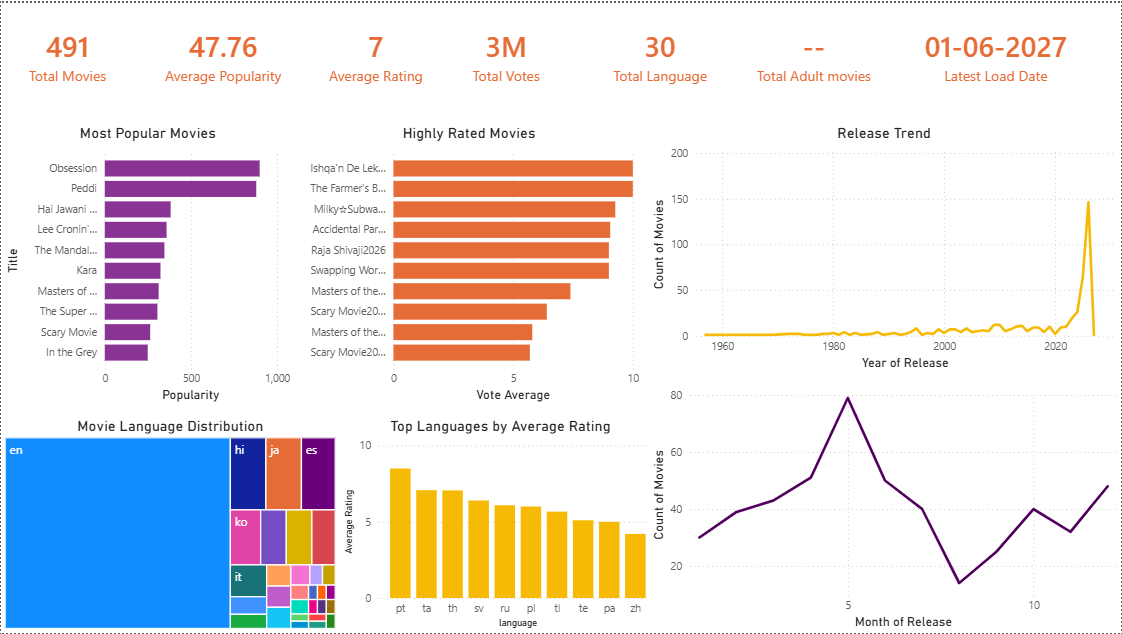

The page's visual inventory and layout, read from the dashboard file:
{"tool":"powerbi","page":{"name":"Page 1","canvas":[1280,720],"ordinal":0},"visuals":[{"type":"cardVisual","fields":{"Data":["movie_fact.Total Movies"]},"box":[0,0,152.9,121.4],"z":0},{"type":"barChart","title":"Most Popular Movies","fields":{"Category":["movie_fact.title"],"Y":["Sum(movie_fact.popularity)"]},"box":[0,138.6,335.7,322.9],"z":4000},{"type":"barChart","title":"Highly Rated Movies","fields":{"Y":["Sum(movie_fact.vote_average)"],"Category":["movie_fact.Movie name with year"]},"box":[335.7,138.6,398.6,322.9],"z":5000},{"type":"treemap","title":"Movie Language Distribution","fields":{"Group":["movie_fact.language"],"Values":["CountNonNull(movie_fact.movie_id)"]},"box":[0,472.9,387.1,247.1],"z":6000},{"type":"lineChart","title":"Release Trend","fields":{"Category":["movie_fact.Release Year"],"Y":["CountNonNull(movie_fact.movie_id)"]},"box":[738.6,138.6,541.4,285.7],"z":7000},{"type":"cardVisual","fields":{"Data":["movie_fact.Average Popularity"]},"box":[152.9,0,202.9,121.4],"z":8001},{"type":"cardVisual","fields":{"Data":["movie_fact.Average Rating"]},"box":[321.4,0,214.3,121.4],"z":8002},{"type":"cardVisual","fields":{"Data":["movie_fact.Total Votes"]},"box":[501.4,0,152.9,121.4],"z":8003},{"type":"cardVisual","fields":{"Data":["movie_fact.Total Language"]},"box":[654.3,0,198.6,121.4],"z":8004},{"type":"cardVisual","fields":{"Data":["movie_fact.Total Adult movies"]},"box":[830,0,198.6,121.4],"z":8005},{"type":"columnChart","title":"Top Languages by Average Rating","fields":{"Category":["movie_fact.language"],"Y":["movie_fact.Average Rating"]},"box":[387.1,472.9,367.1,247.1],"z":8006},{"type":"cardVisual","fields":{"Data":["movie_fact.Latest Load Date"]},"box":[1010,0,254.3,121.4],"z":8007},{"type":"lineChart","title":"Release Trend","fields":{"Y":["CountNonNull(movie_fact.movie_id)"],"Category":["movie_fact.Month Number"]},"box":[738.6,434.3,541.4,285.7],"z":8008}]}

Visuals, with their boxes in screenshot pixels (x1, y1, x2, y2), scaled from the page's 1280x720 canvas onto the 1122x634 screenshot:
cardVisual - movie_fact.Total Movies: bbox=[0, 0, 134, 107]
"Most Popular Movies" barChart: bbox=[0, 122, 294, 406]
"Highly Rated Movies" barChart: bbox=[294, 122, 644, 406]
"Movie Language Distribution" treemap: bbox=[0, 416, 339, 633]
"Release Trend" lineChart: bbox=[647, 122, 1121, 374]
cardVisual - movie_fact.Average Popularity: bbox=[134, 0, 312, 107]
cardVisual - movie_fact.Average Rating: bbox=[282, 0, 470, 107]
cardVisual - movie_fact.Total Votes: bbox=[440, 0, 574, 107]
cardVisual - movie_fact.Total Language: bbox=[574, 0, 748, 107]
cardVisual - movie_fact.Total Adult movies: bbox=[728, 0, 902, 107]
"Top Languages by Average Rating" columnChart: bbox=[339, 416, 661, 633]
cardVisual - movie_fact.Latest Load Date: bbox=[885, 0, 1108, 107]
"Release Trend" lineChart: bbox=[647, 382, 1121, 633]
